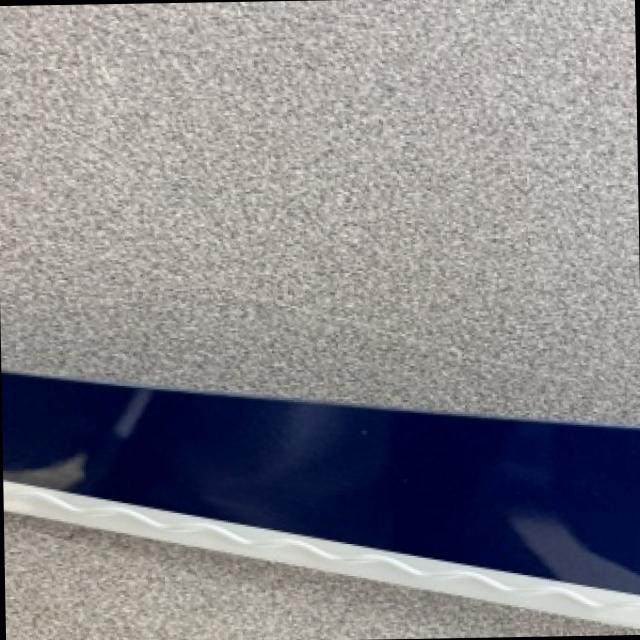healthy: (3, 370, 640, 589), (5, 515, 640, 640)
